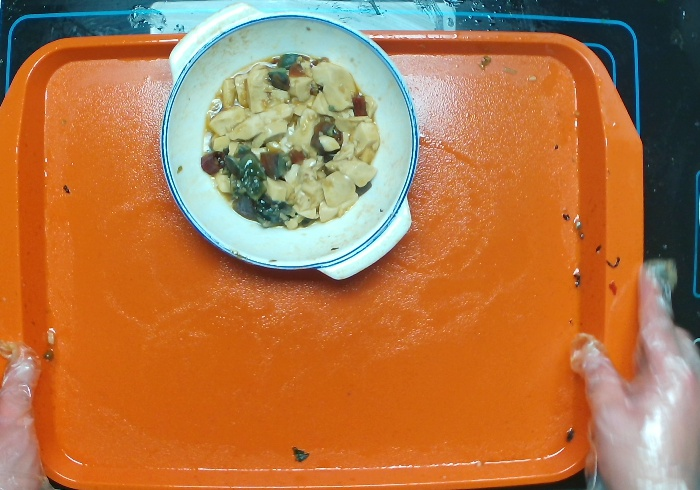HZYJPL-Lan_Bian_Dai_Er_Wan: (154, 2, 433, 289)
